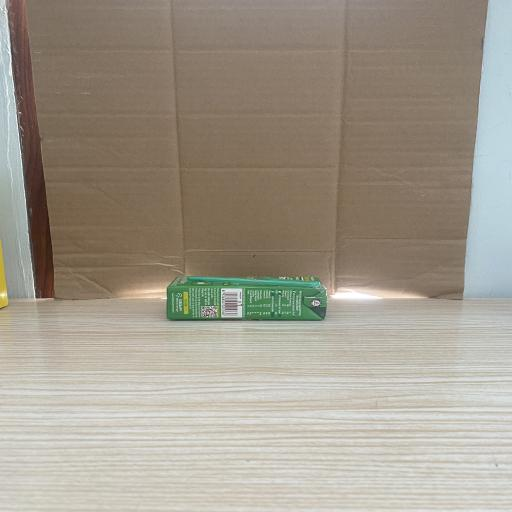milo: (166, 276, 328, 321)
